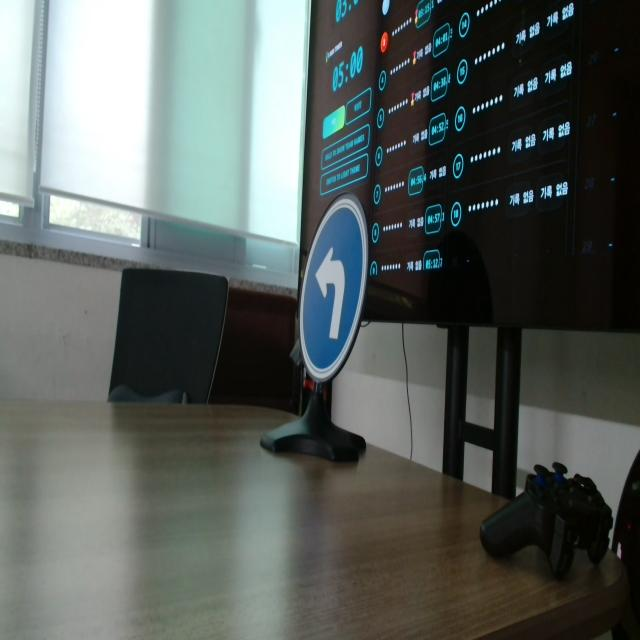left_direction: (294, 190, 369, 380)
